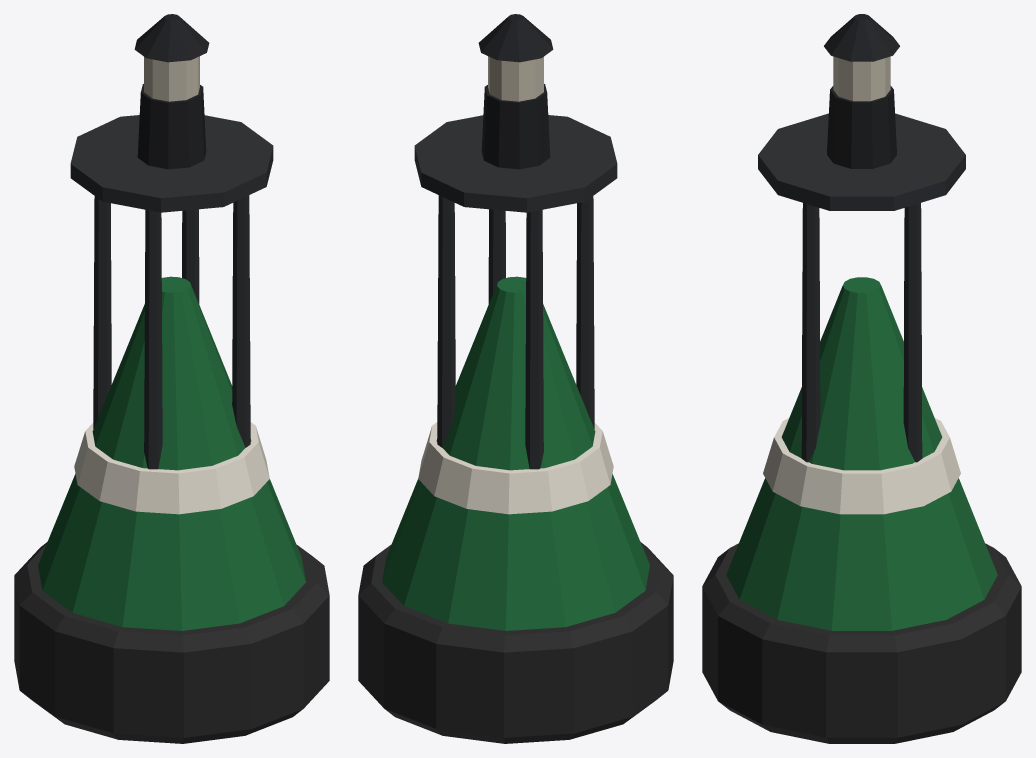
The model's file is buoy_green.fbx.
3 renders of one model, left to right at view 1: azimuth 30°, elevation 25°; view 2: azimuth 150°, elevation 25°; view 3: azimuth 270°, elevation 25°, orthographic.
Visible parts, largest first — view 1: Body.001; view 2: Body.001; view 3: Body.001.
Part boxes in pixels (box(x1,y1,x2,y2)): Body.001: box(14, 14, 329, 743); Body.001: box(358, 14, 673, 743); Body.001: box(702, 14, 1021, 743).
Size of the model in its own units: 1.95 by 4.6 by 2.
